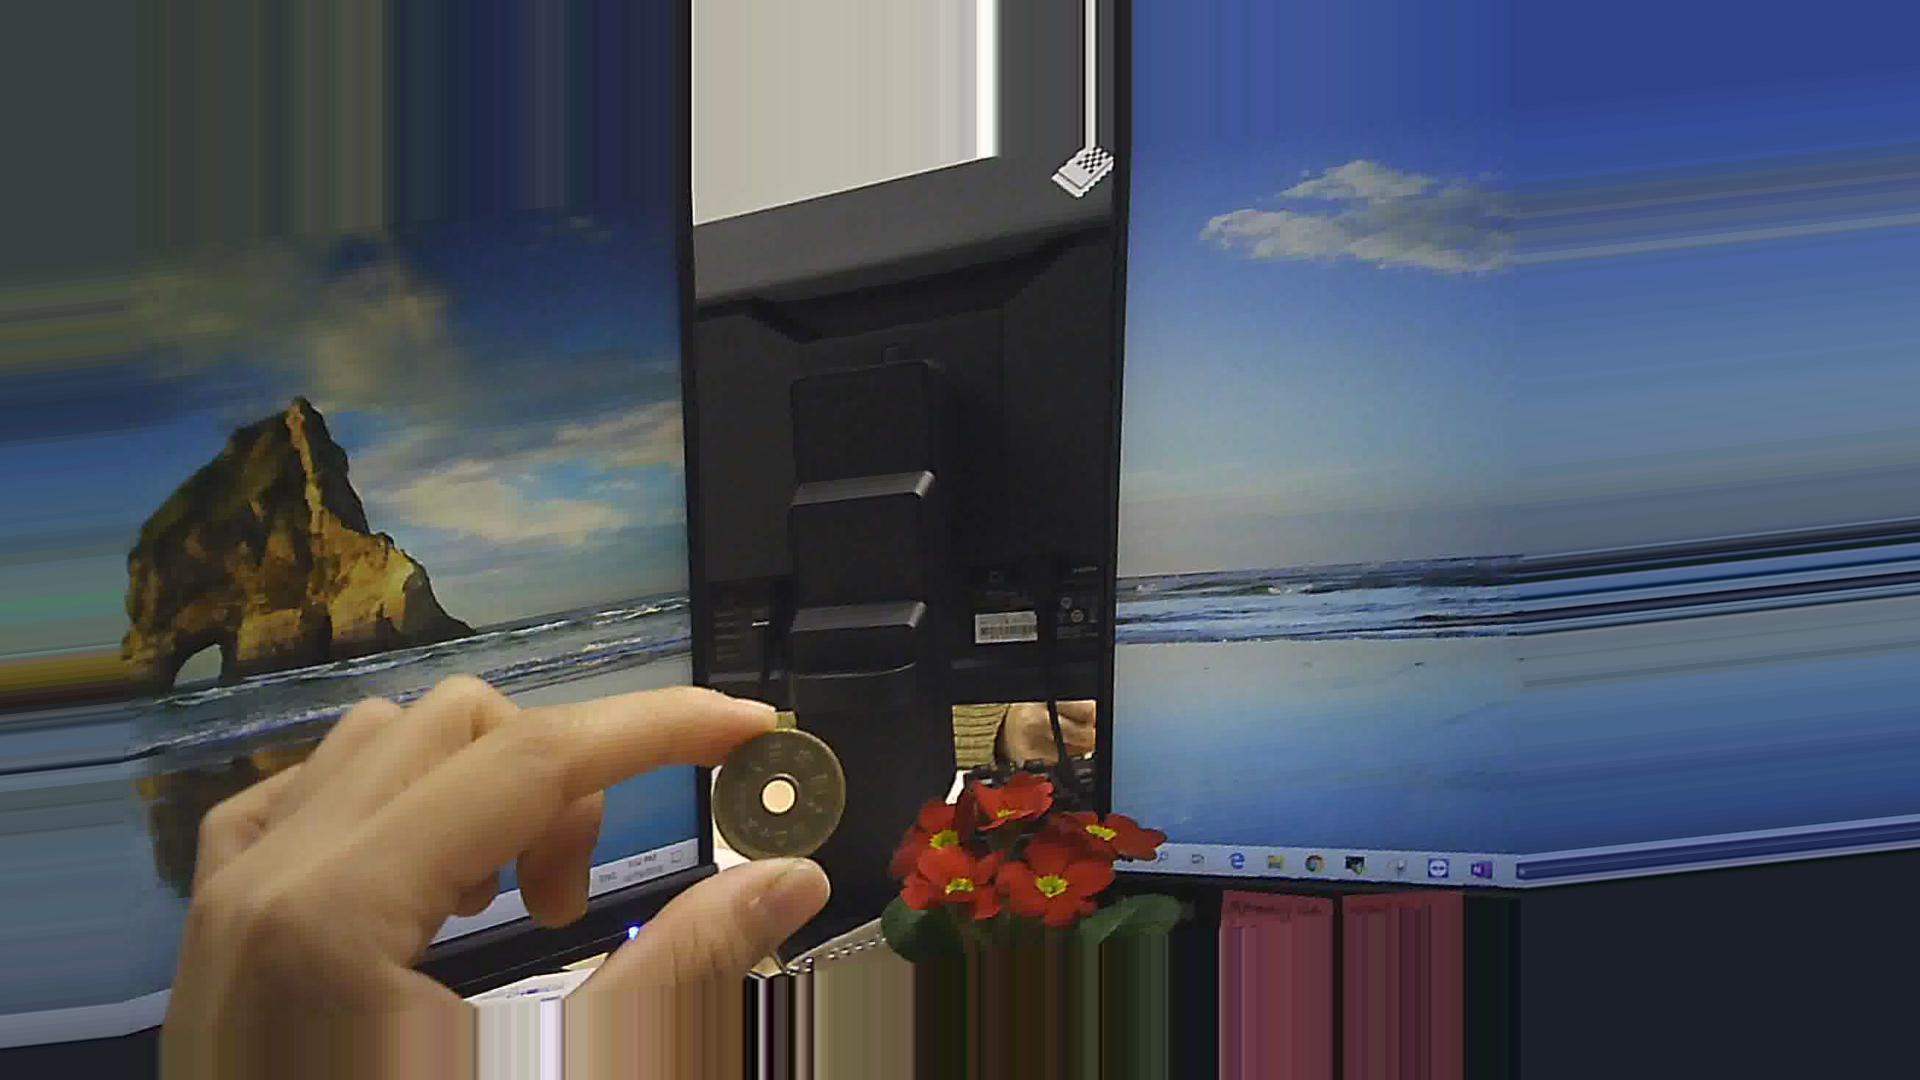5 Yen: (709, 723, 853, 869)
